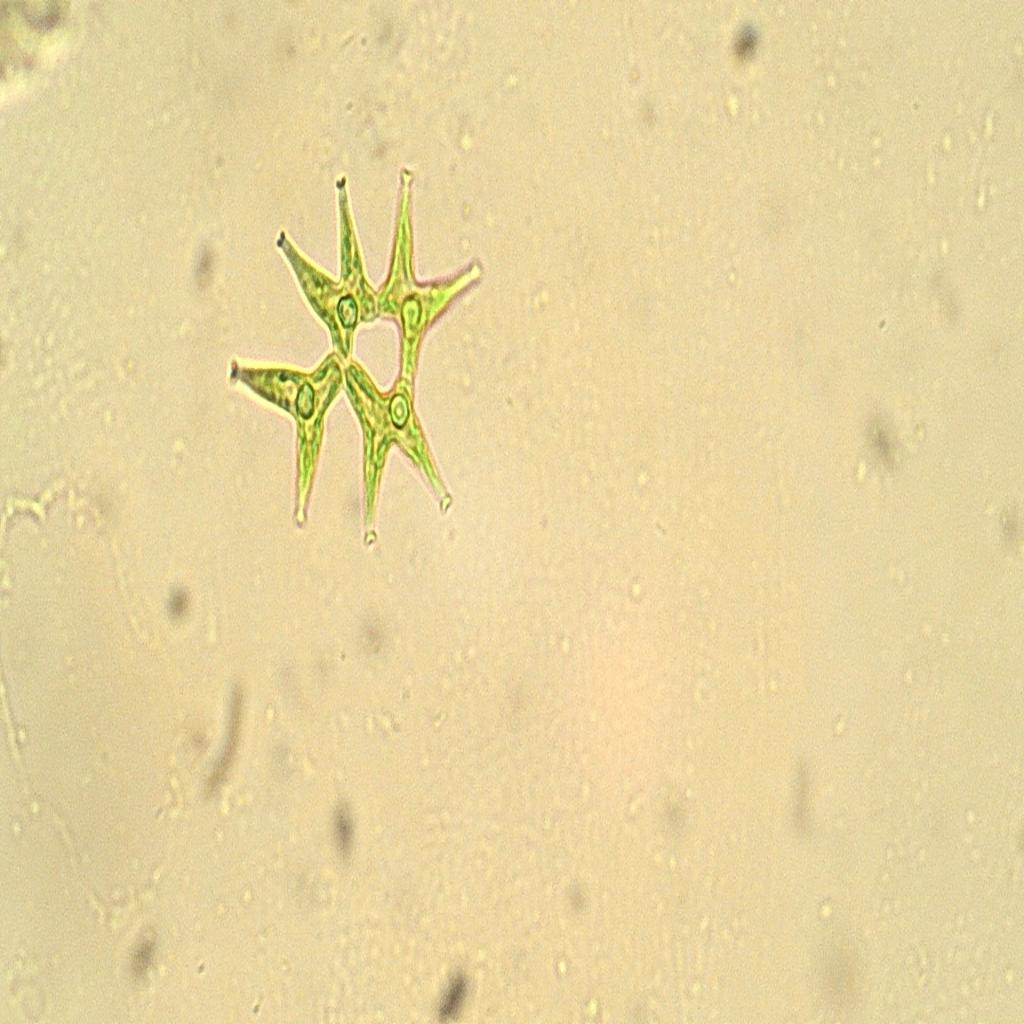Pediastrum_CT: (200, 148, 523, 554)
